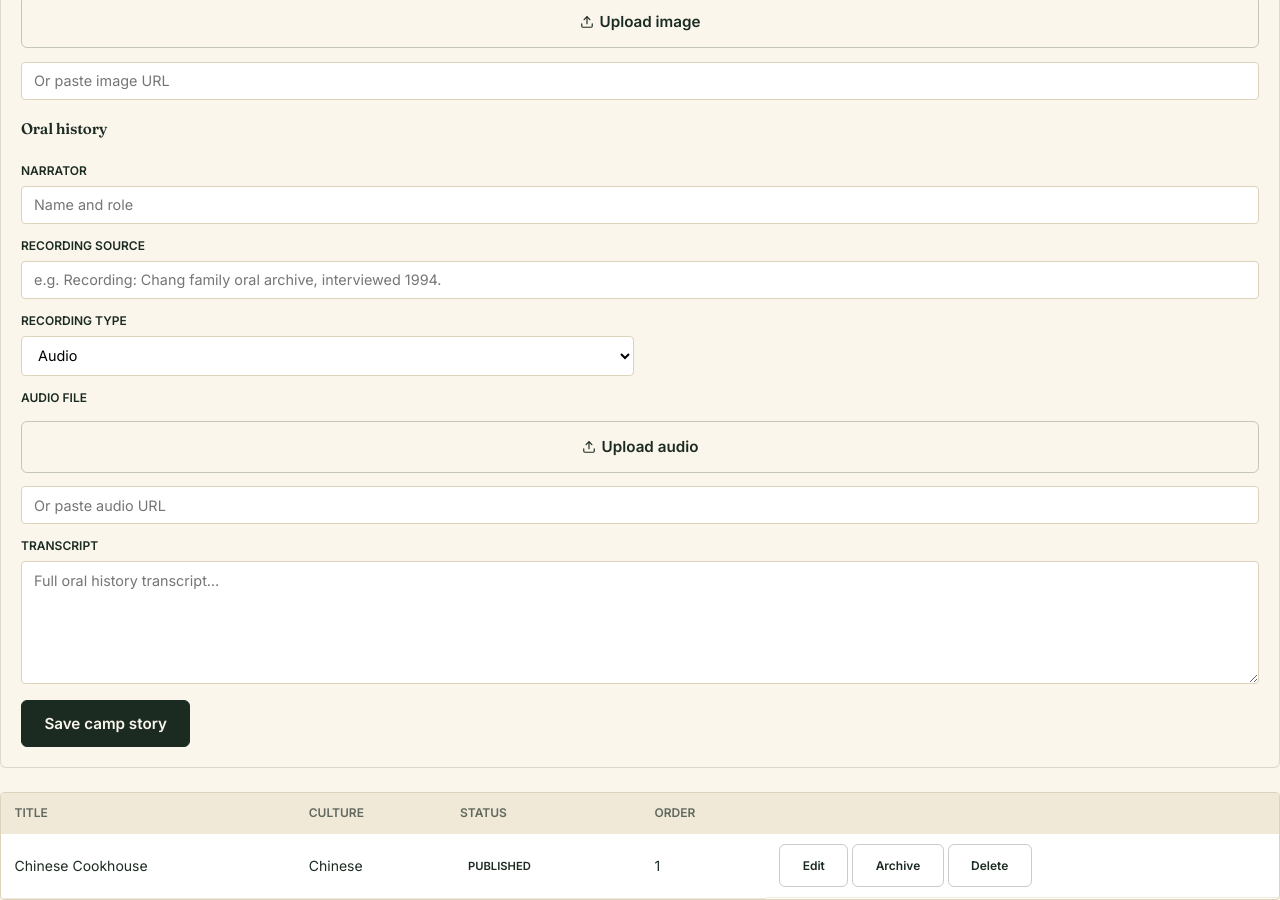
Test case: CampStoriesPanel › starts edit when Edit is clicked
(page scrolled)
expect the text "Chinese Cookhouse" is shown: met, box [1,834,295,898]
Step 1. Click the button "Edit" → click(814, 866), box [779,844,848,887]
(page scrolled)
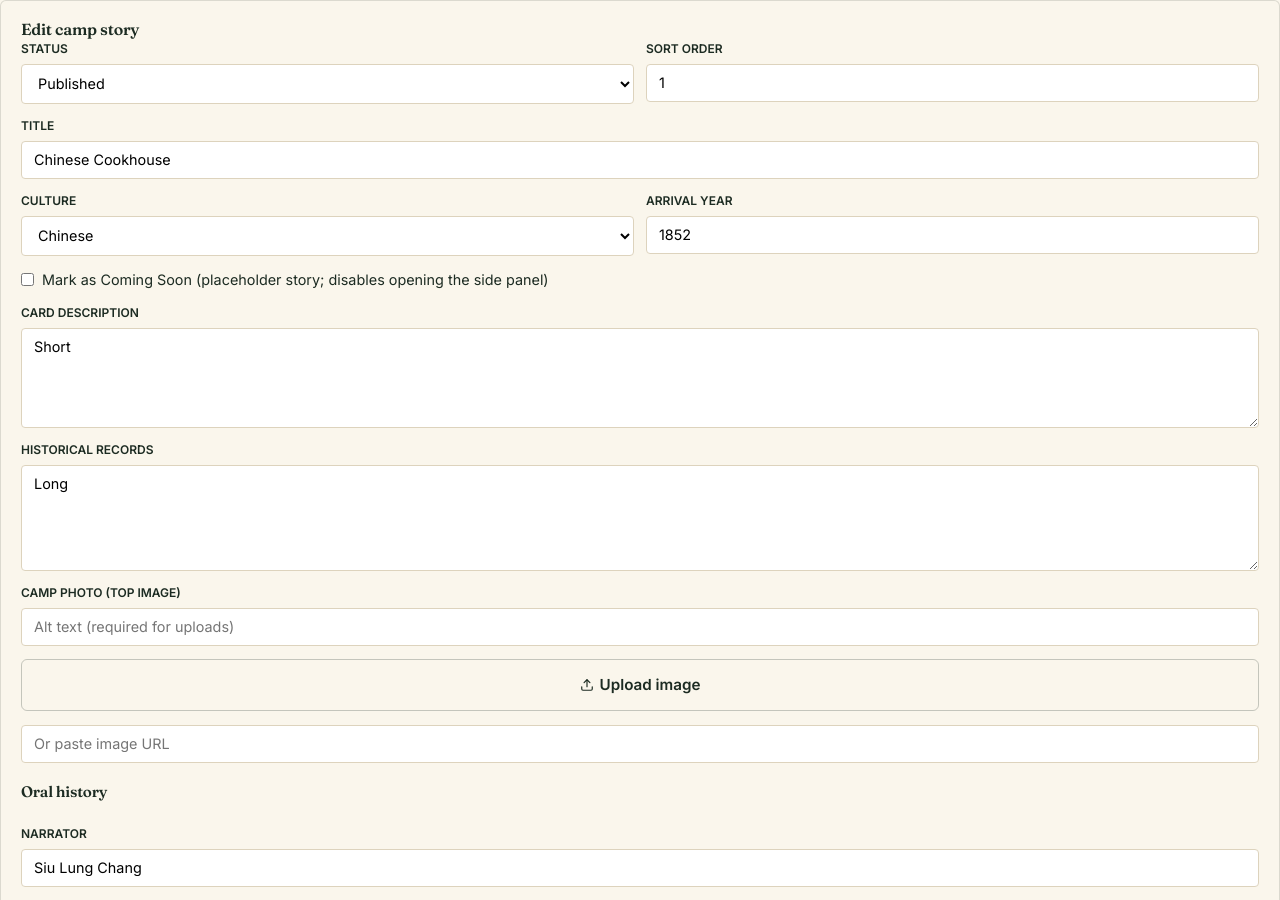
expect the heading "Edit camp story" is shown: met, box [21,19,139,39]
expect the 1st field showing "Chinese Cookhouse" is shown: met, box [21,141,1259,179]
